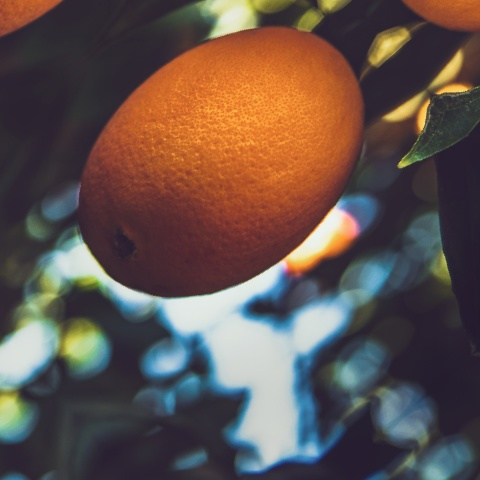orange: (4, 0, 453, 396)
